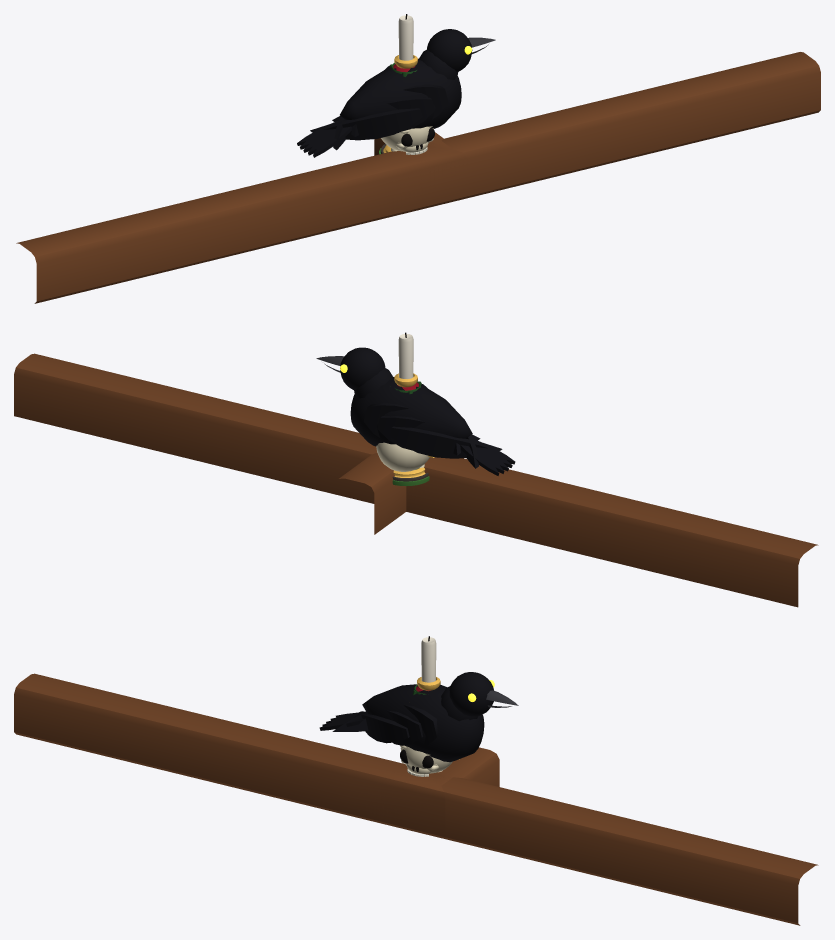
File: cosmetics.glb
The picture shows the model from 3 angles, top to bottom: view 1: azimuth 30°, elevation 25°; view 2: azimuth 150°, elevation 25°; view 3: azimuth 330°, elevation 25°; orthographic projection.
Visible parts, largest first — view 1: Tischrahmen_Leiste, Kraehe_Koerper, Tischrahmen_Ecke, Kraehe_Kopf_Federn, Totenkopf, Faberge_Kerze; view 2: Tischrahmen_Leiste, Kraehe_Koerper, Tischrahmen_Ecke, Kraehe_Kopf_Federn, Totenkopf, Faberge_Kerze; view 3: Tischrahmen_Leiste, Tischrahmen_Ecke, Kraehe_Koerper, Kraehe_Kopf_Federn, Totenkopf, Faberge_Kerze.
Part boxes in pixels (box(x1,y1,x2,y2)): Tischrahmen_Leiste: box(16, 52, 820, 303); Kraehe_Koerper: box(297, 58, 461, 157); Tischrahmen_Ecke: box(355, 132, 467, 218); Kraehe_Kopf_Federn: box(419, 29, 472, 79); Totenkopf: box(381, 126, 434, 154); Faberge_Kerze: box(398, 14, 413, 60); Tischrahmen_Leiste: box(14, 353, 818, 607); Kraehe_Koerper: box(350, 377, 515, 475); Tischrahmen_Ecke: box(339, 453, 473, 534); Kraehe_Kopf_Federn: box(340, 347, 393, 398); Totenkopf: box(376, 442, 429, 471); Faberge_Kerze: box(398, 332, 413, 378); Tischrahmen_Leiste: box(14, 673, 818, 925); Tischrahmen_Ecke: box(351, 747, 499, 837); Kraehe_Koerper: box(319, 684, 484, 762); Kraehe_Kopf_Federn: box(441, 672, 493, 721); Totenkopf: box(400, 745, 452, 776); Faberge_Kerze: box(421, 636, 436, 682).
Size of the model in its own units: 1 by 0.2181 by 0.12.
